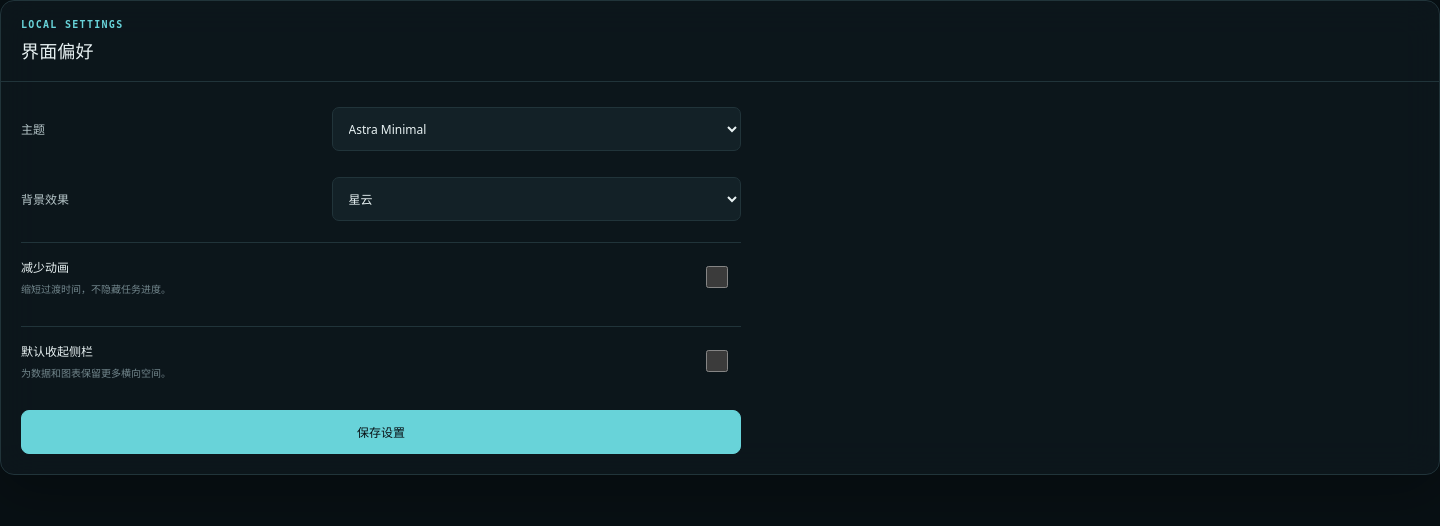
keeps the applied theme when persistence fails
Select "Astra Light" in the dropdown labelled "主题" at (536, 129), box [332,107,741,151]
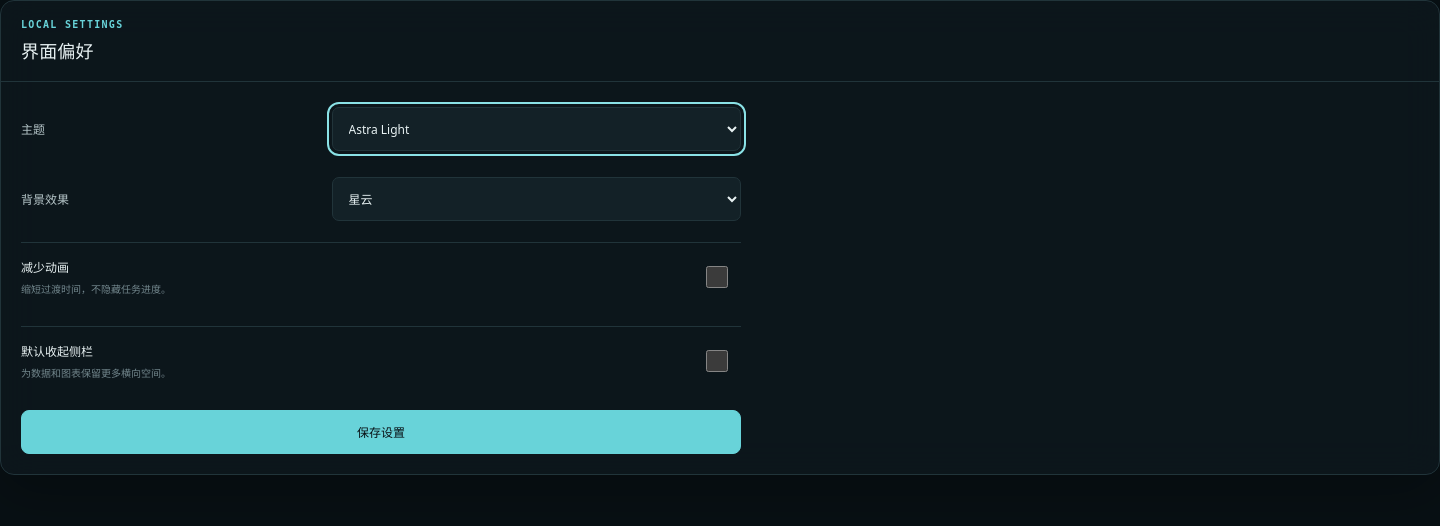
Click the button "保存设置" at (381, 432), box [21,410,741,454]
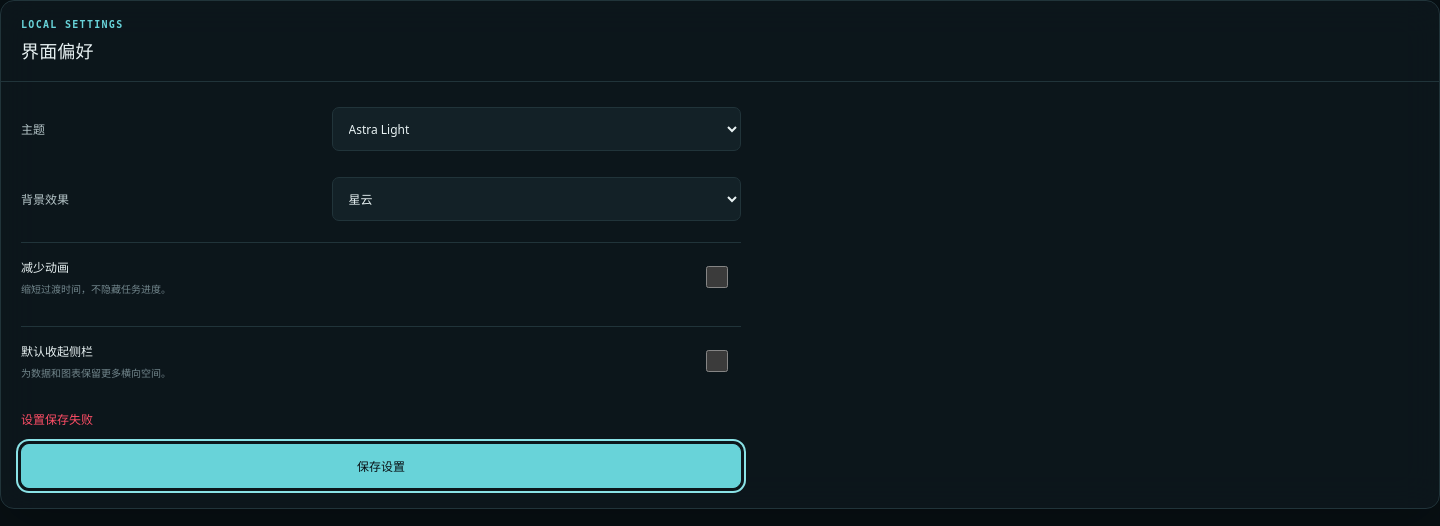
Expected: the text "设置保存失败" is shown, [21,411,93,428]
